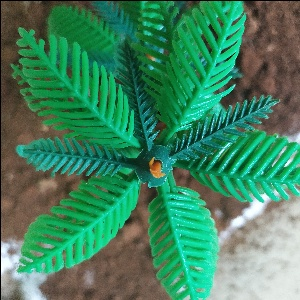plant: (12, 6, 287, 292)
